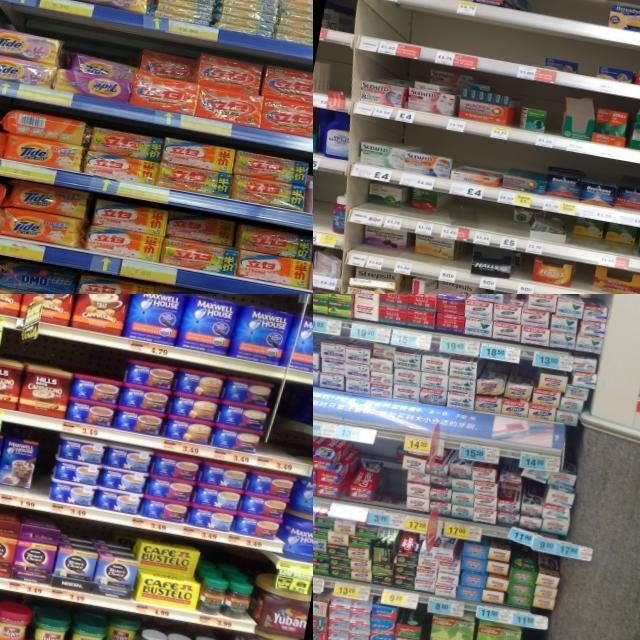Imprecise: (160, 204, 240, 278), (137, 40, 200, 108), (410, 57, 472, 118), (571, 217, 640, 254), (362, 182, 404, 218), (403, 186, 441, 220), (508, 200, 533, 240)
